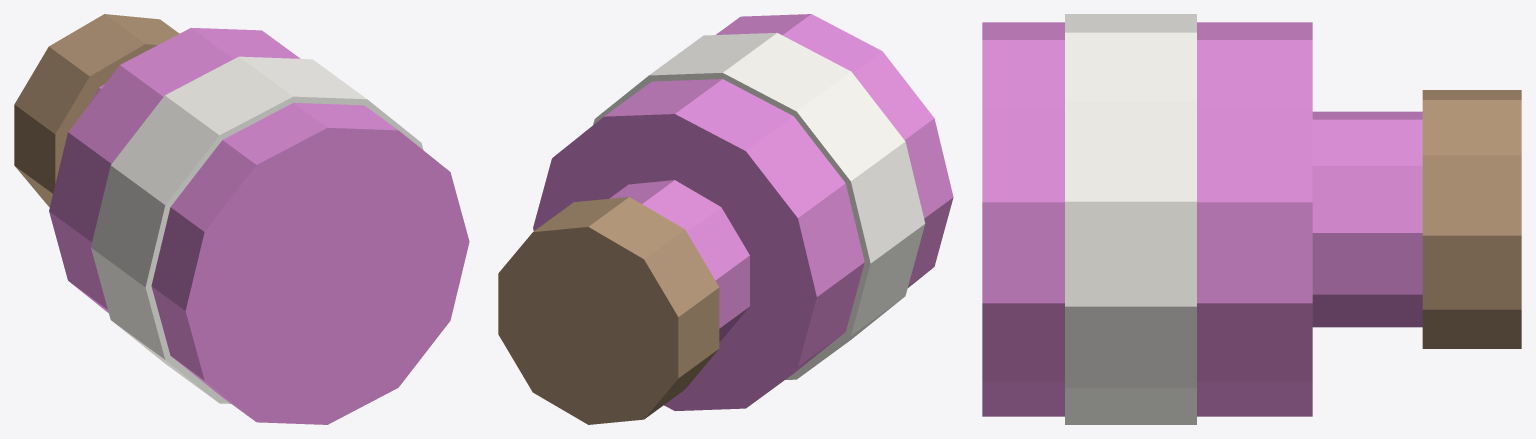
File: magenta_dye_held.gltf
The picture shows the model from 3 angles, left to right: view 1: azimuth 30°, elevation 25°; view 2: azimuth 150°, elevation 25°; view 3: azimuth 270°, elevation 25°; orthographic projection. The views are drawn at different scales.
Visible parts, largest first — view 1: colors_magenta_dye_held; view 2: colors_magenta_dye_held; view 3: colors_magenta_dye_held.
Boxes of the visible parts, bbox=[...] form: colors_magenta_dye_held: bbox=[14, 14, 469, 424]; colors_magenta_dye_held: bbox=[498, 14, 953, 424]; colors_magenta_dye_held: bbox=[982, 14, 1521, 424].
Size of the model in its own units: 0.075 by 0.075 by 0.098.
